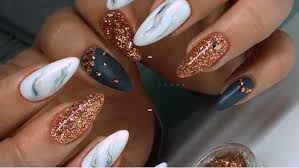nail: (49, 92, 105, 145), (17, 56, 78, 101), (133, 1, 191, 48), (176, 31, 228, 81), (79, 46, 133, 91), (100, 11, 142, 62), (80, 129, 129, 168), (216, 76, 254, 111)
